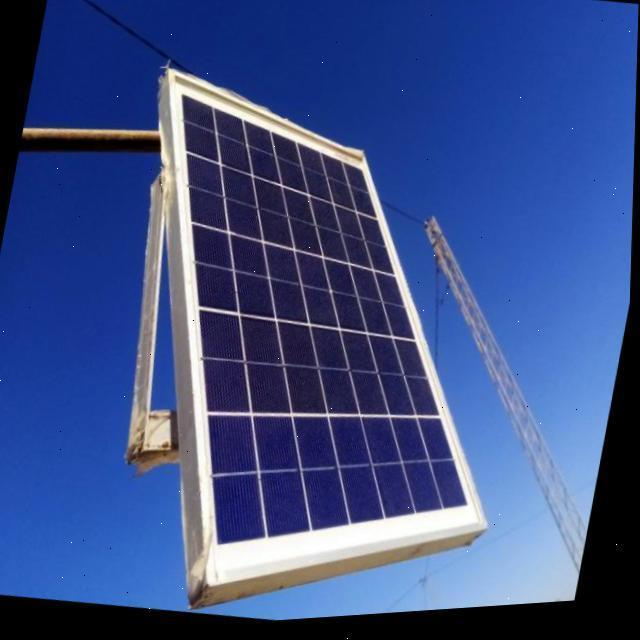Normal Solar Panel: (76, 57, 564, 636)
